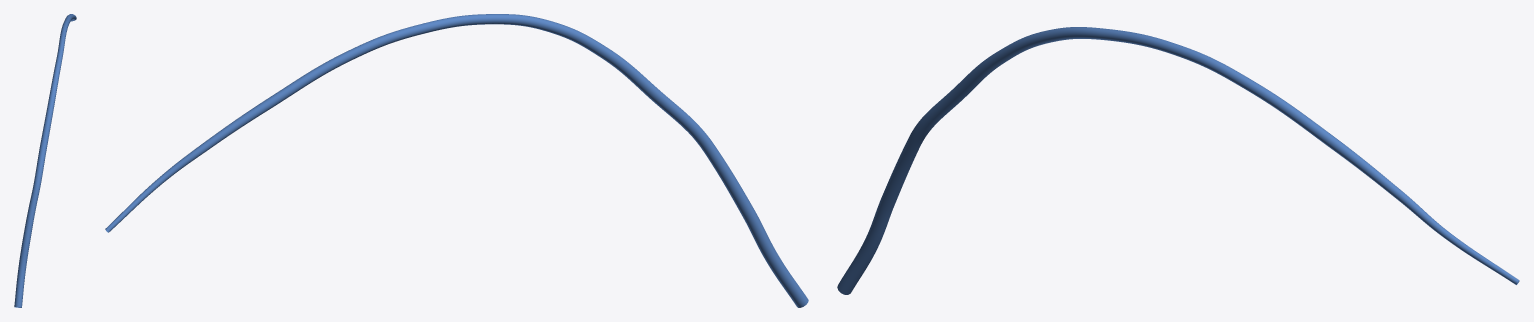
3 renders of one model, left to right at view 1: azimuth 30°, elevation 25°; view 2: azimuth 150°, elevation 25°; view 3: azimuth 270°, elevation 25°, orthographic. The views are drawn at different scales.
Parts seen in each view (by area): view 1: 左肋下静脉; view 2: 左肋下静脉; view 3: 左肋下静脉.
Part boxes in pixels (x1=…): 左肋下静脉: x1=14, y1=14, x2=76, y2=307; 左肋下静脉: x1=105, y1=14, x2=808, y2=307; 左肋下静脉: x1=837, y1=27, x2=1519, y2=294.
Bounding box in the file's own units: 0.0787 × 0.0629 × 0.104.
